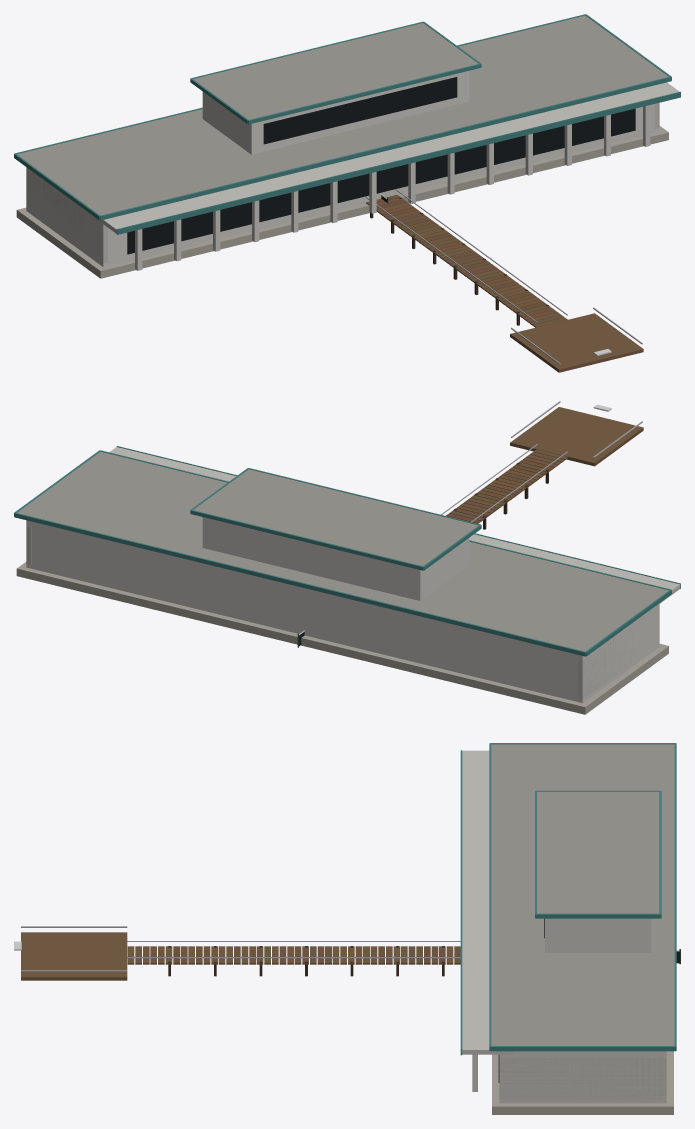
Rendered from woog.glb.
The picture shows the model from 3 angles, top to bottom: view 1: azimuth 30°, elevation 25°; view 2: azimuth 150°, elevation 25°; view 3: azimuth 270°, elevation 25°; orthographic projection. The views are drawn at different scales.
Visible parts, largest first — view 1: badehaus, steg; view 2: badehaus, steg; view 3: badehaus, steg.
Boxes of the visible parts, x1,y1,x2,y2 form: badehaus: (14,14,680,278); steg: (366,189,643,372); badehaus: (14,446,680,714); steg: (441,401,643,529); badehaus: (460,743,676,1114); steg: (14,926,460,980).
Bounding box in the file's own units: 47.34 × 8.39 × 43.9.
